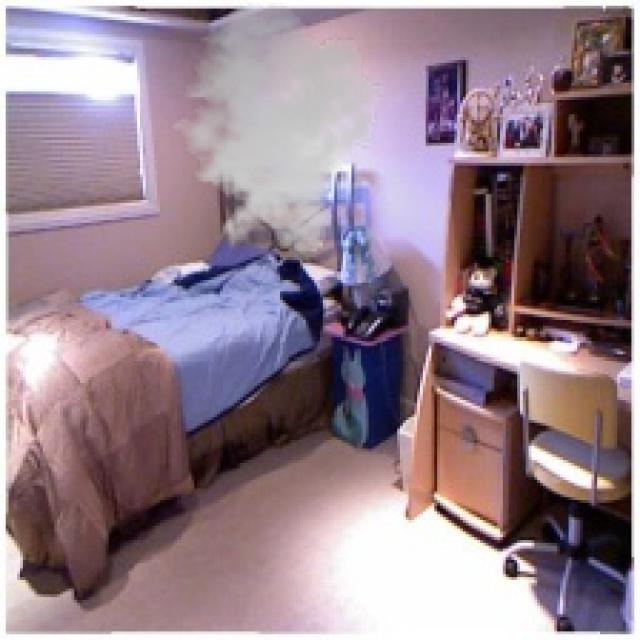smoke: (160, 3, 389, 257)
